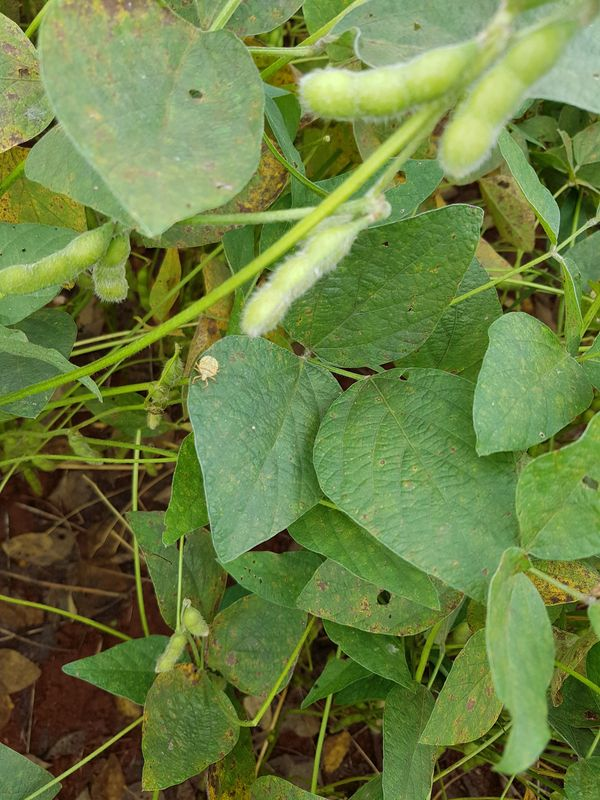Euschistus_heros_ninfa: (188, 351, 226, 393)
